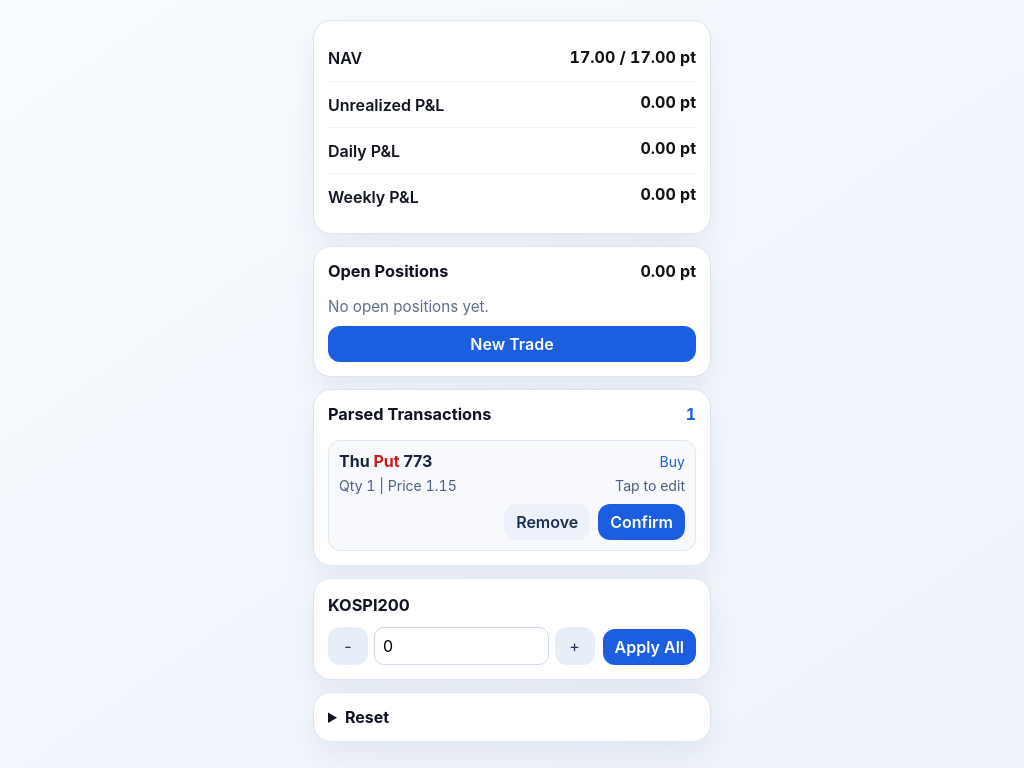
App dashboard › maps 코스피위클리 to Thu and 코스피위클리M to Mon
Expected: the heading "Parsed Transactions" is shown, [328,404,491,424]
Click the button "Thu Put 773 Buy Qty 1 | Price 1.15 Tap to edit".
click(354, 461)  # box [339,451,685,494]
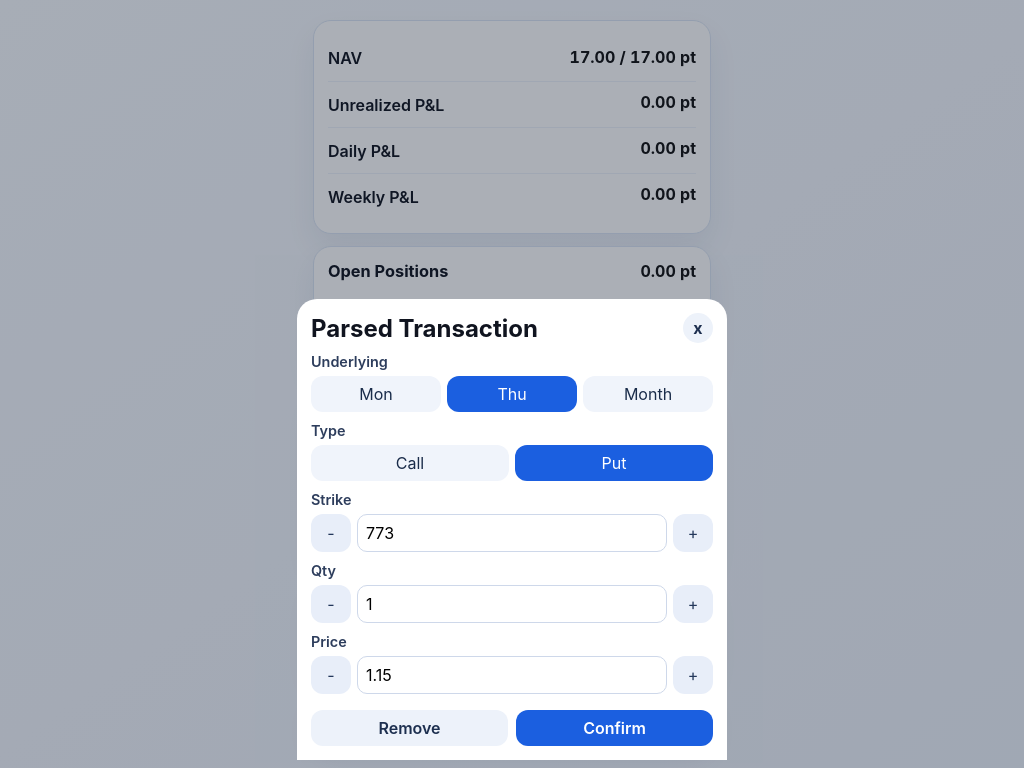
Result: the field named "Strike" is shown at [357,514,667,552]
